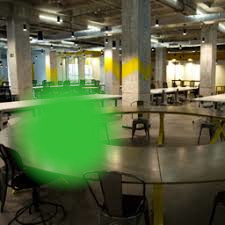focus: (6, 89, 107, 192)
